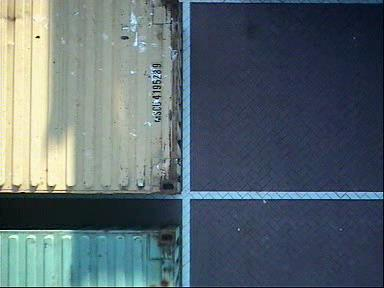groundmarker_2: (85, 195, 149, 237)
